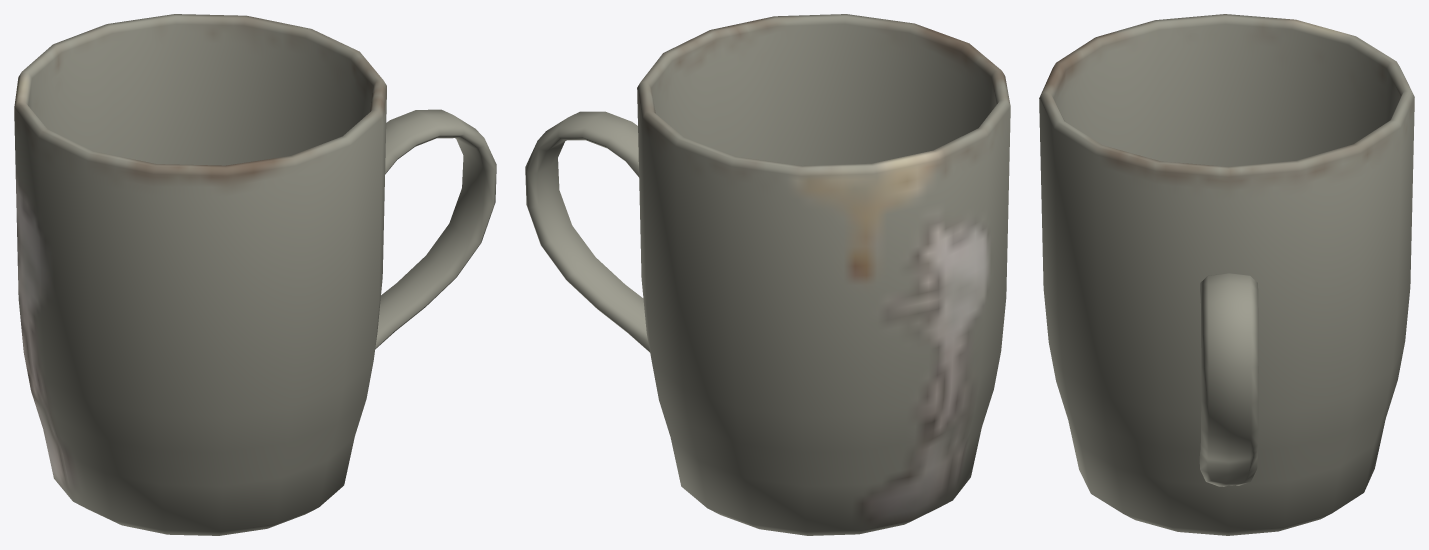
Rendered from Prop_Cup_01.fbx.
3 views of the same model, side by side, from view 1: azimuth 30°, elevation 25°; view 2: azimuth 150°, elevation 25°; view 3: azimuth 270°, elevation 25° (orthographic).
Parts seen in each view (by area): view 1: Prop_Cup_01; view 2: Prop_Cup_01; view 3: Prop_Cup_01.
Boxes of the visible parts, <box> form: Prop_Cup_01: <box>14,14,496,535</box>; Prop_Cup_01: <box>525,14,1010,535</box>; Prop_Cup_01: <box>1039,14,1414,535</box>.
Size of the model in its own units: 5.65 by 4.65 by 4.07.
